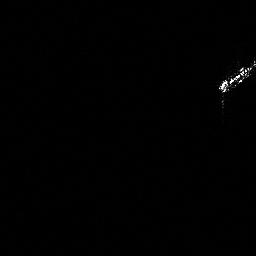ship: (219, 58, 256, 95)
